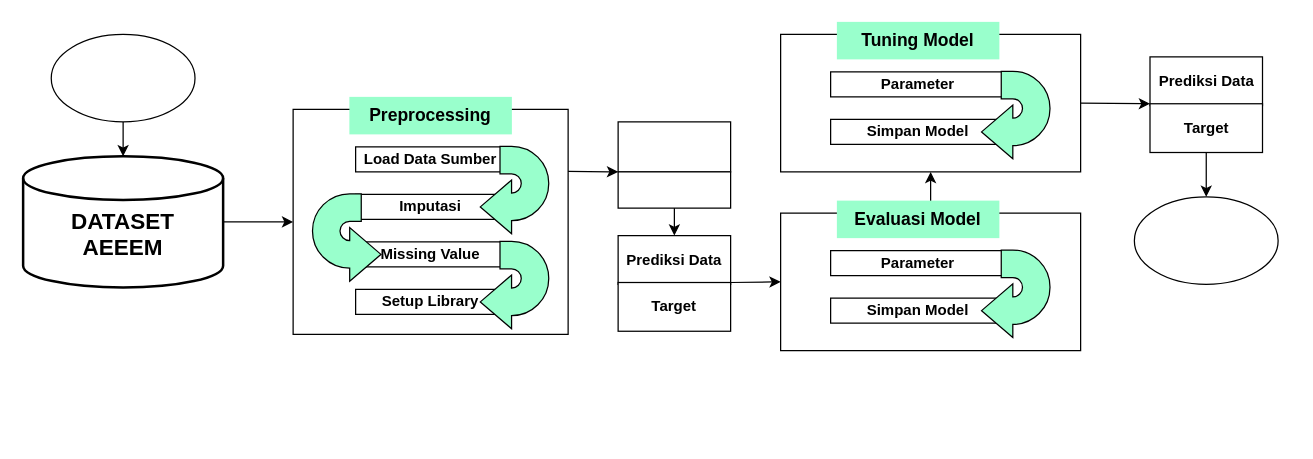
Image size: 1313x459. Some labels were removed from this diagram. Here are the shapes that lost their labels. From the top down, the centre of each, then its label:
point (122, 77): Mulai
point (674, 146): Run best _model
point (674, 189): create_model
point (1205, 240): Selesai
